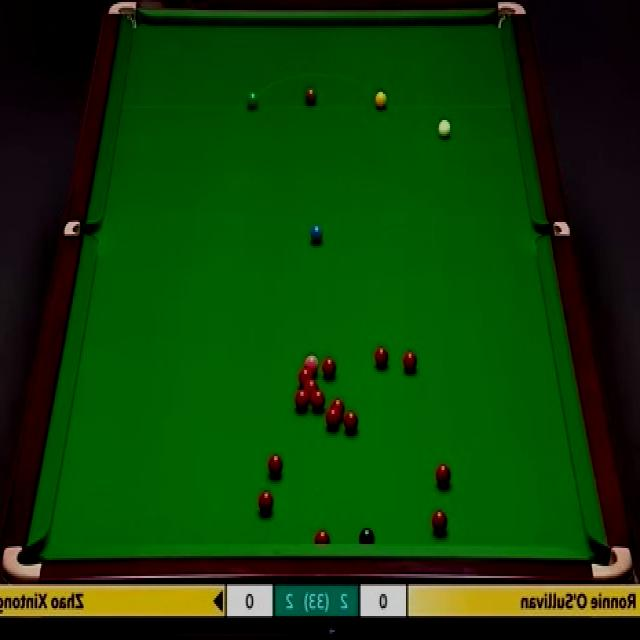black-ball: (359, 526, 375, 546)
blue-ball: (310, 224, 324, 246)
brown-ball: (305, 89, 316, 108)
green-ball: (243, 90, 260, 110)
pink-ball: (304, 352, 320, 369)
red-ball: (430, 508, 448, 536), (257, 488, 274, 514), (343, 409, 360, 434), (268, 454, 283, 480), (403, 349, 419, 373), (325, 407, 341, 431), (436, 462, 451, 487), (314, 526, 331, 546), (374, 346, 389, 368), (311, 390, 326, 412), (322, 356, 337, 377), (294, 391, 309, 410), (298, 368, 314, 384), (330, 398, 346, 412), (304, 379, 318, 391)
white-ball: (438, 117, 453, 140)
yellow-ball: (374, 89, 388, 108)
